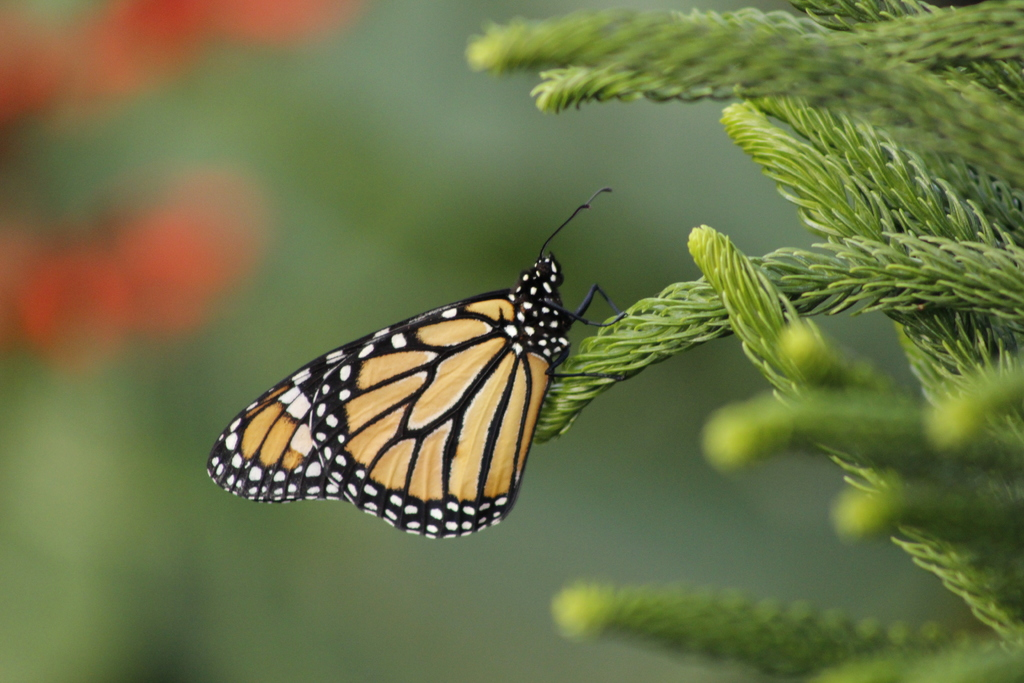Butterfly: (190, 205, 656, 544)
